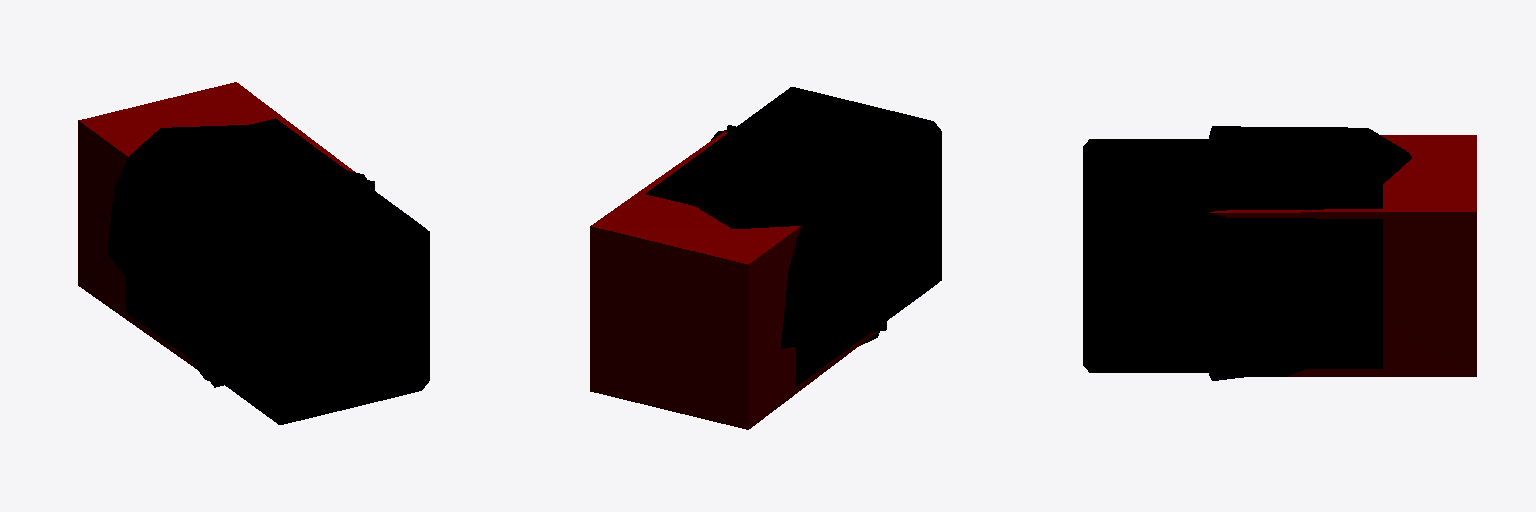
Rendered from Butter.obj.
The picture shows the model from 3 angles: view 1: azimuth 30°, elevation 25°; view 2: azimuth 150°, elevation 25°; view 3: azimuth 270°, elevation 25°; orthographic projection.
Visible parts, largest first — view 1: pCube2, vertexBakeSet1 pCube1 group1; view 2: vertexBakeSet1 pCube1 group1, pCube2; view 3: vertexBakeSet1 pCube1 group1, pCube2.
Part boxes in pixels (x1,y1,x2,y2): pCube2: (126, 118, 429, 424); vertexBakeSet1 pCube1 group1: (78, 82, 374, 387); vertexBakeSet1 pCube1 group1: (590, 125, 886, 429); pCube2: (646, 87, 941, 386); vertexBakeSet1 pCube1 group1: (1209, 126, 1476, 380); pCube2: (1083, 139, 1382, 372).
Size of the model in its own units: 6.12 by 6.12 by 12.35.